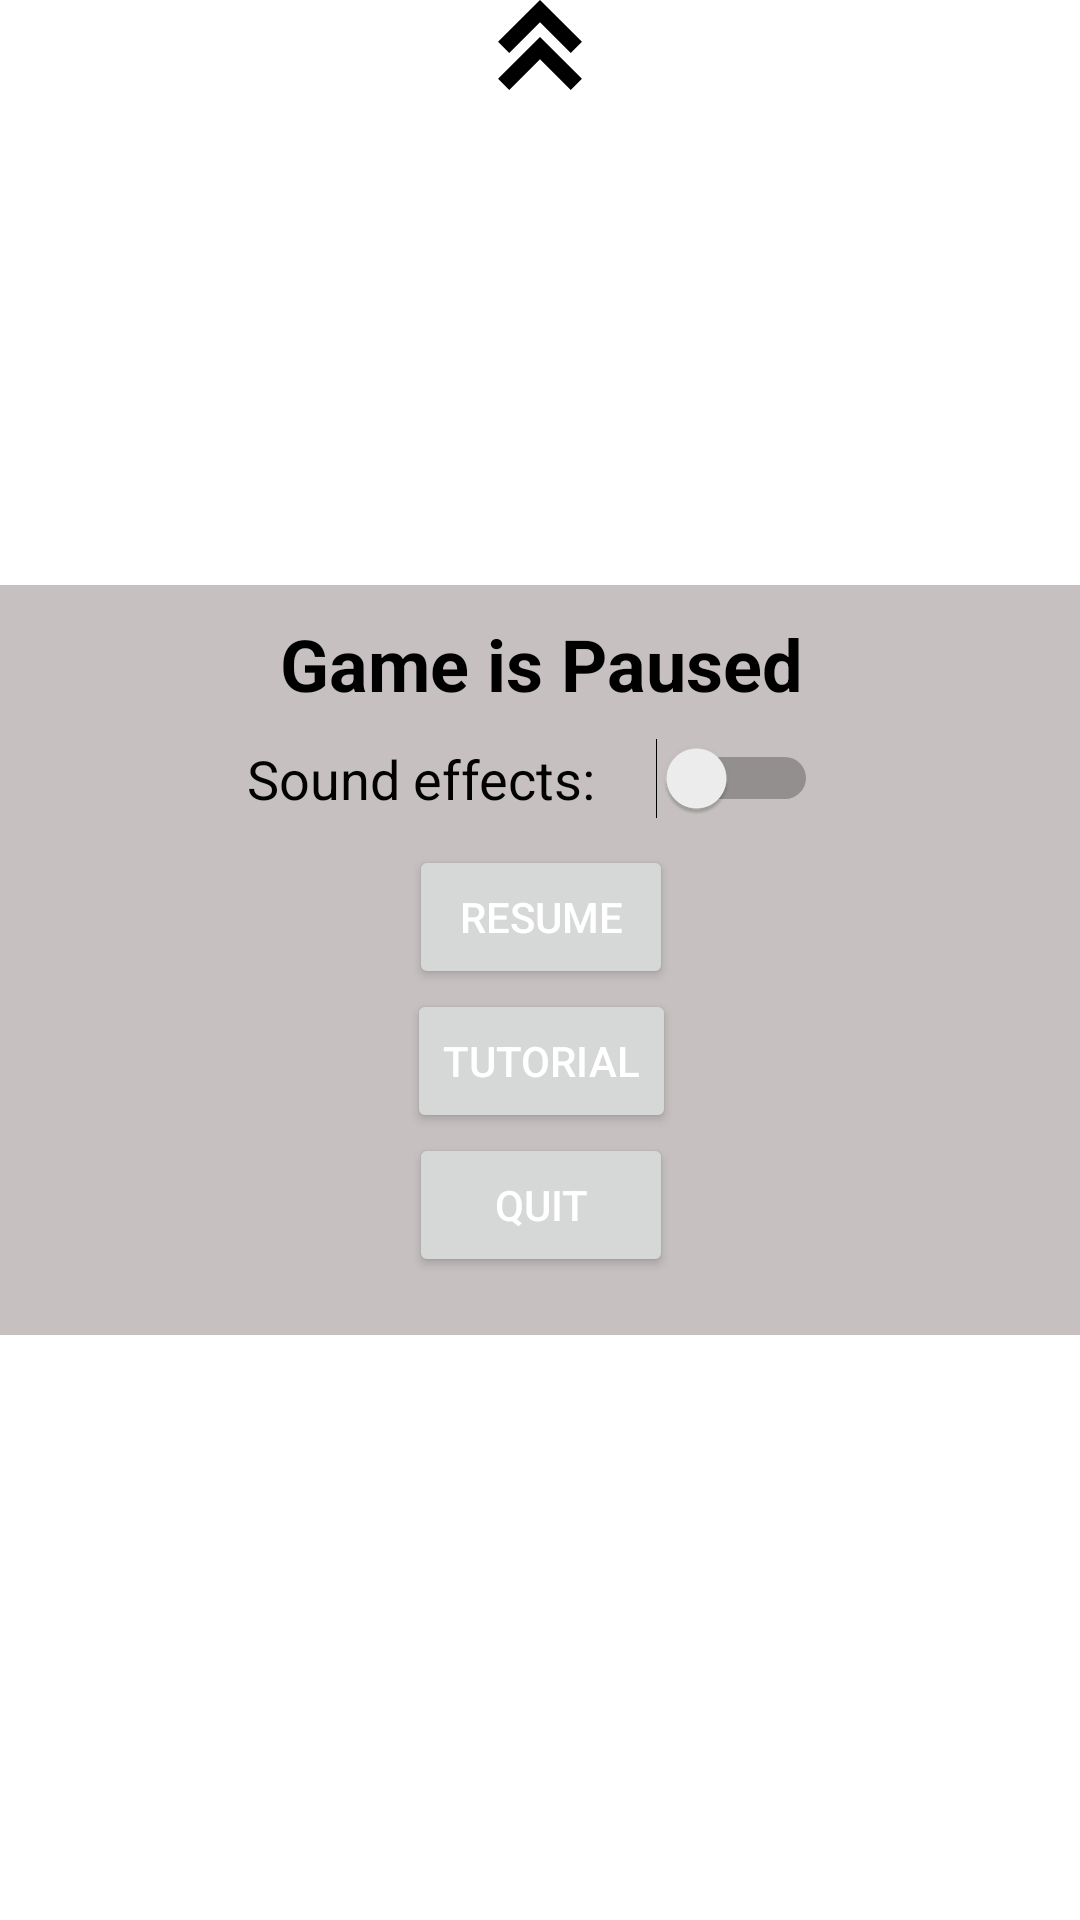

Icon click points for this 1080 × 1920 phone screenshot, format point (x, y):
double arrow up: point (540, 45)
